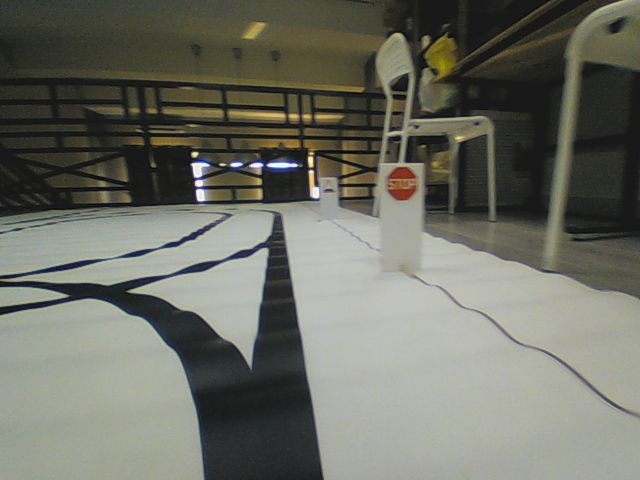Stop: (384, 165, 418, 201)
